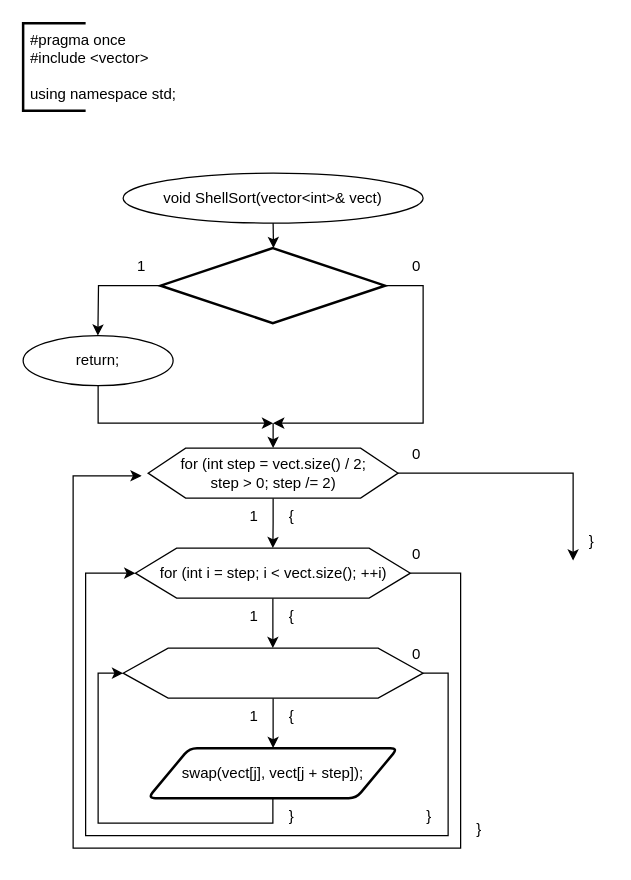
This 631x880 diagram has some shape labels left out. Here are the shapes that lost their labels. From the top down, the box of each, then its label:
(159, 246, 386, 324): if (vect.size() < 2)
(122, 647, 423, 698): for (int j = i - step; (j >= 0) && (vect[j] > vect[j + step]); j -= step)
